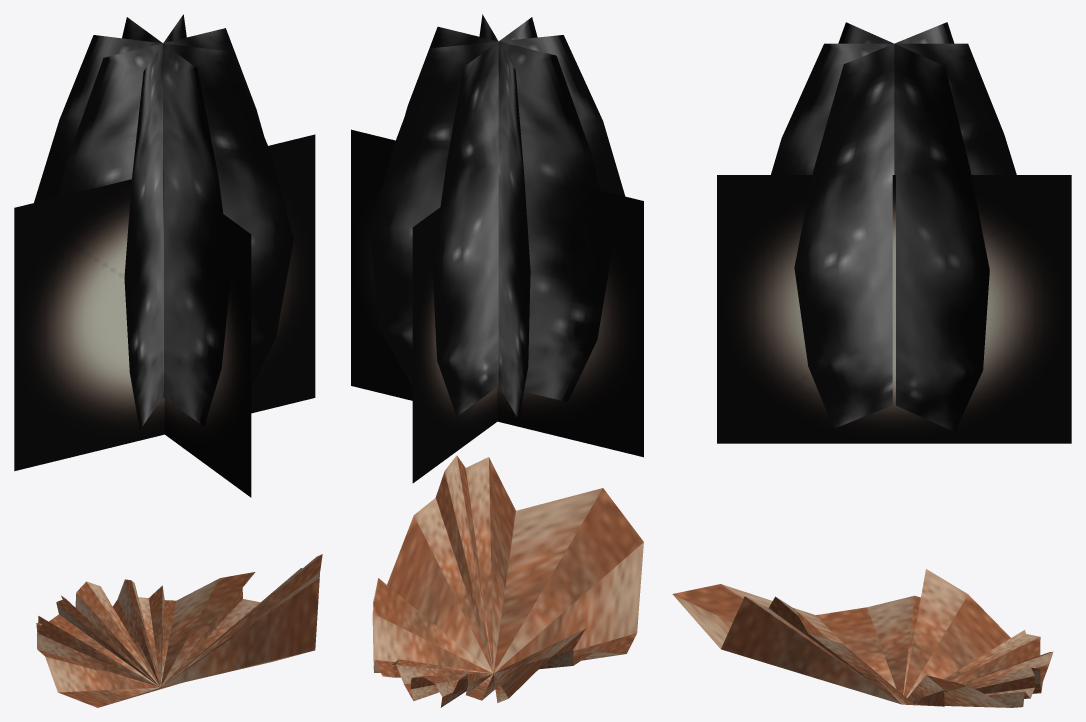
3 views of the same model, side by side, from view 1: azimuth 30°, elevation 25°; view 2: azimuth 150°, elevation 25°; view 3: azimuth 270°, elevation 25° (orthographic). The views are drawn at different scales.
Visible parts, largest first — view 1: B_0170_3b_1, B_0170_3b_0; view 2: B_0170_3b_1, B_0170_3b_0; view 3: B_0170_3b_1, B_0170_3b_0.
Part boxes in pixels (left/top/right/bottom): B_0170_3b_1: left=14, top=14, right=315, bottom=497; B_0170_3b_0: left=36, top=554, right=322, bottom=707; B_0170_3b_1: left=351, top=14, right=643, bottom=483; B_0170_3b_0: left=372, top=455, right=643, bottom=707; B_0170_3b_1: left=717, top=22, right=1071, bottom=443; B_0170_3b_0: left=672, top=569, right=1053, bottom=707.
Size of the model in its own units: 0.6915 by 1.42 by 0.7789.
Materials: 2 (2 with a texture image).
